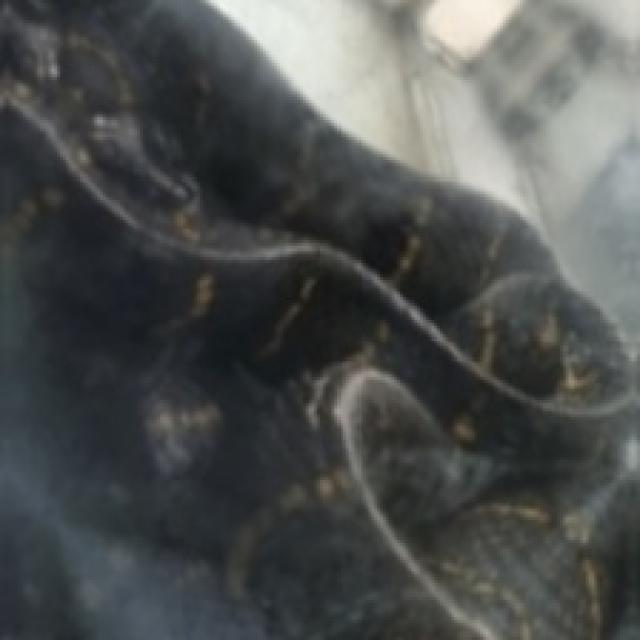mangrove cat snake: (0, 0, 626, 637)
